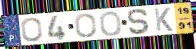4: (46, 15, 68, 41)
K: (153, 7, 174, 32)
O: (20, 16, 44, 43), (74, 12, 98, 38), (99, 11, 123, 37)
S: (127, 8, 152, 35)
